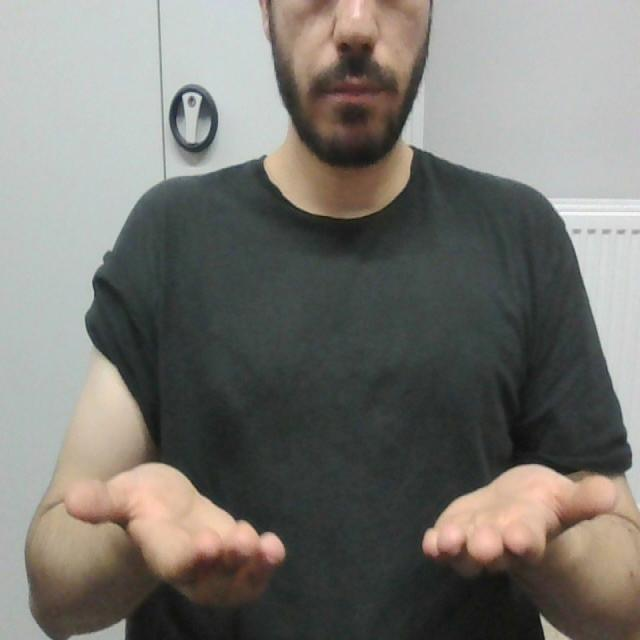Evet: (62, 444, 620, 614)
